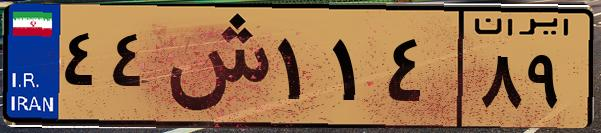1: (270, 28, 330, 110), (330, 28, 385, 110)
4: (385, 28, 445, 110), (57, 26, 110, 100), (110, 28, 158, 98)
8: (475, 38, 525, 113)
9: (525, 38, 570, 115)
ش: (158, 12, 270, 120)
